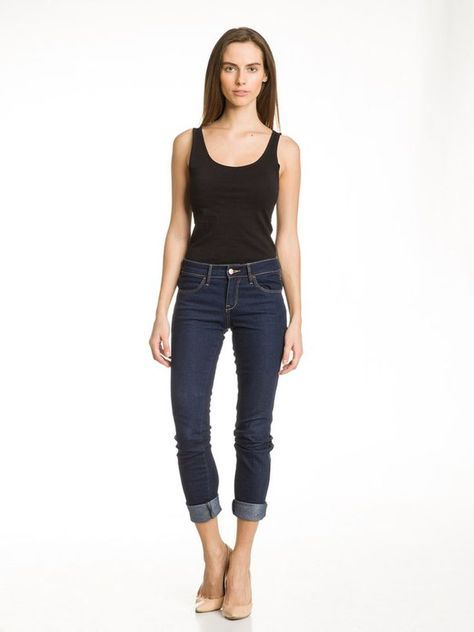person: (146, 23, 313, 620)
